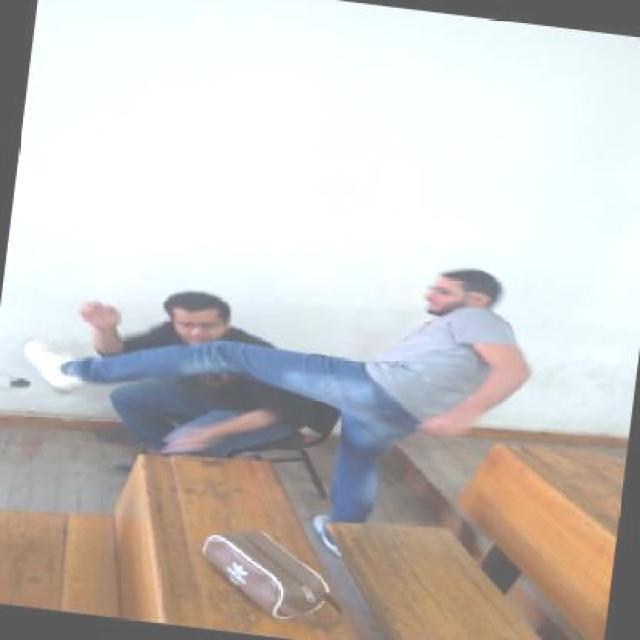fight: (21, 214, 542, 466)
